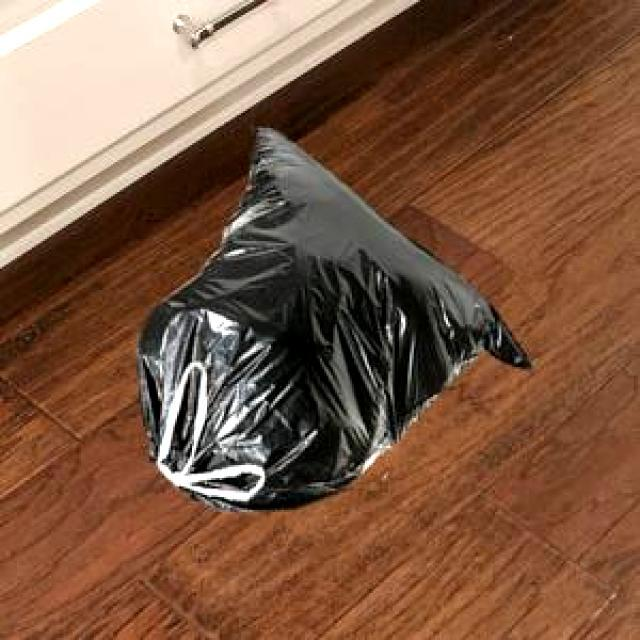Garbage_Bag: (131, 125, 528, 509)
